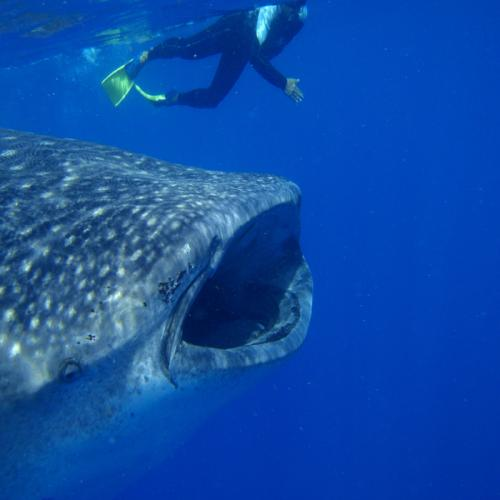shark-endangered: (0, 130, 315, 500)
